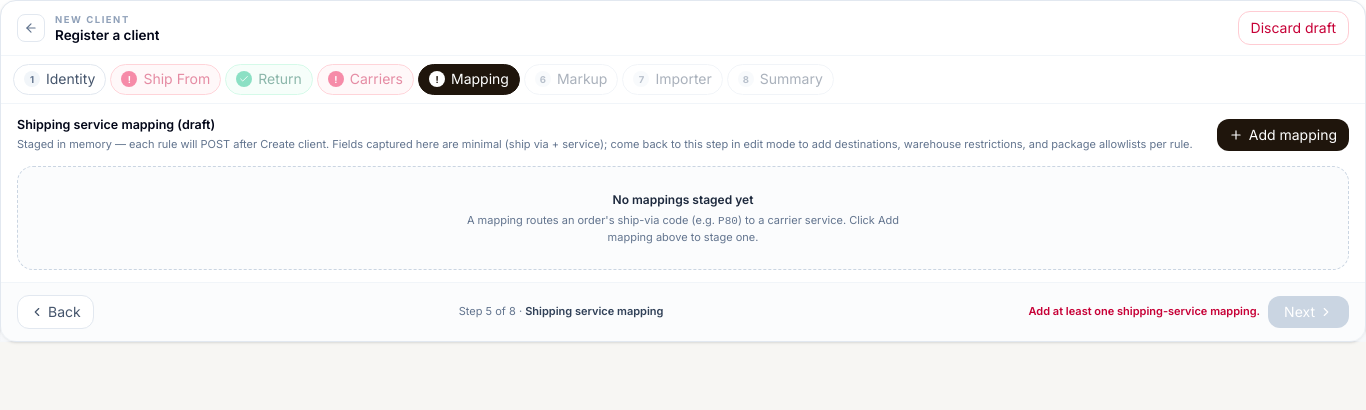
Scenario: MappingDraftStep — create mode negative cases › rejects an empty shipviaCd after blur (surfaces required error)
Click the button "Add mapping".
click(1283, 135)  # box [1217,118,1349,151]
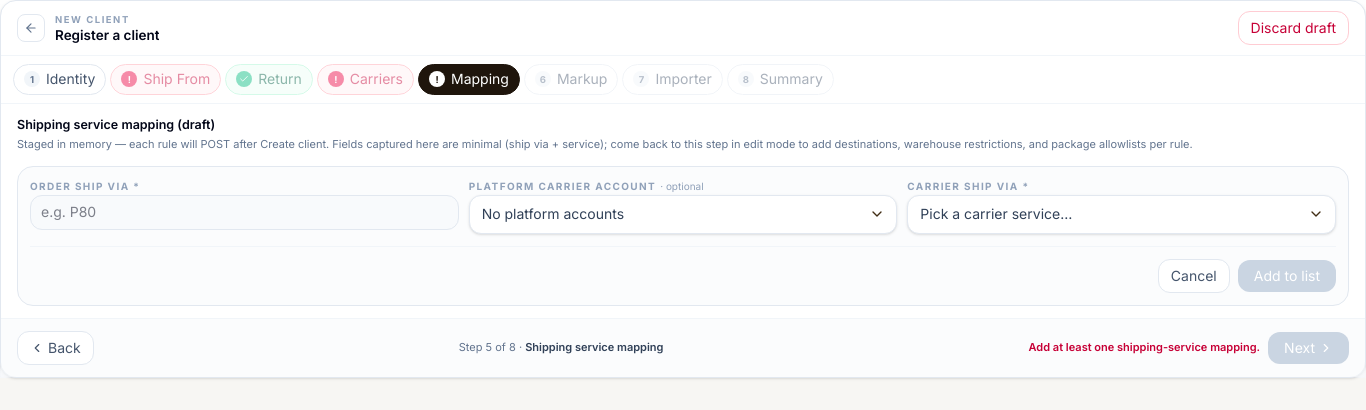
Click the field with placeholder "e.g. P80".
click(244, 212)  # box [30,195,459,230]
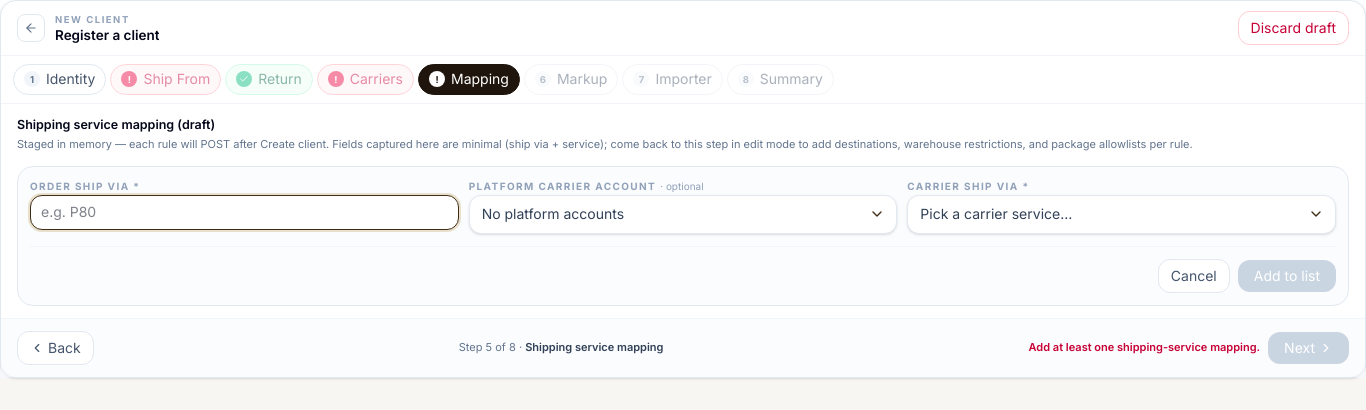
Press Tab
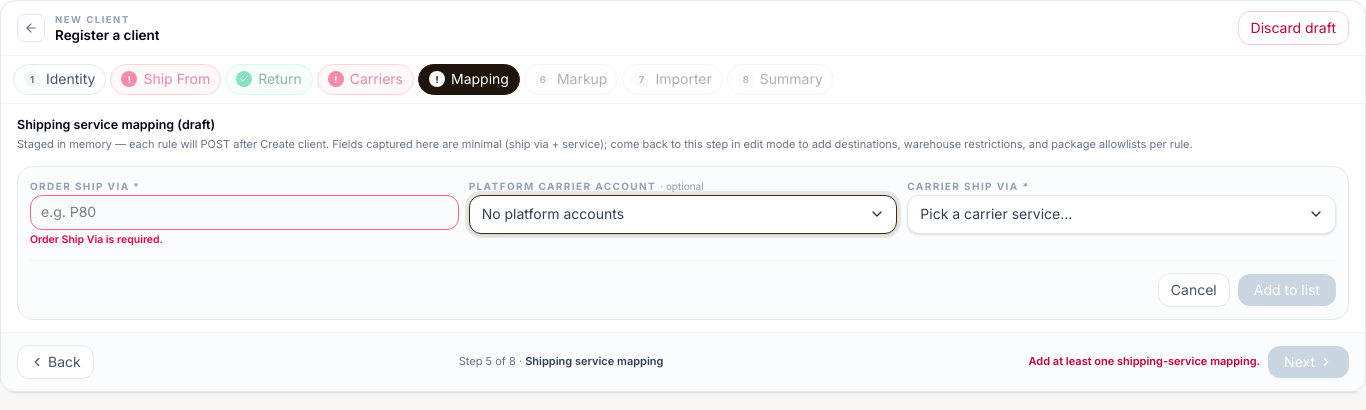
Expected: the text "Order Ship Via is required." is shown, [30,232,163,246]
